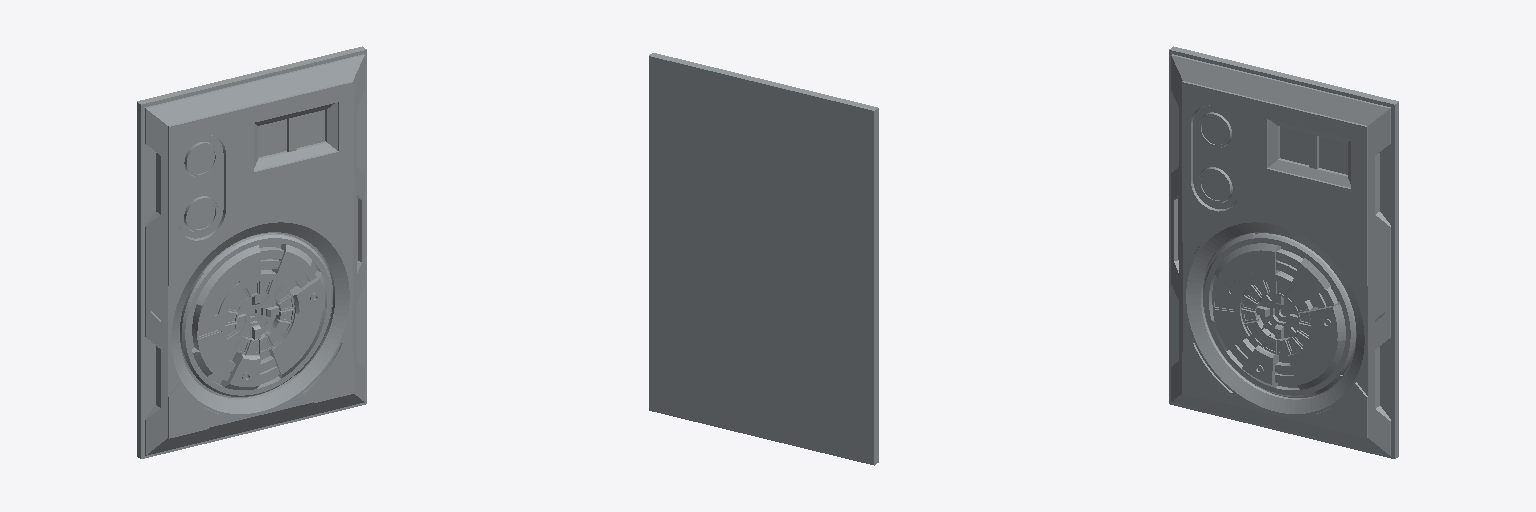
Rendered from tinker.obj.
3 renders of one model, left to right at view 1: azimuth 30°, elevation 25°; view 2: azimuth 150°, elevation 25°; view 3: azimuth 330°, elevation 25°, orthographic.
Parts seen in each view (by area): view 1: obj_0; view 2: obj_0; view 3: obj_0.
Boxes of the visible parts, x1,y1,x2,y2 form: obj_0: [137, 46, 366, 458]; obj_0: [649, 53, 878, 465]; obj_0: [1169, 46, 1398, 458].
Bounding box in the file's own units: 200 × 300 × 20.